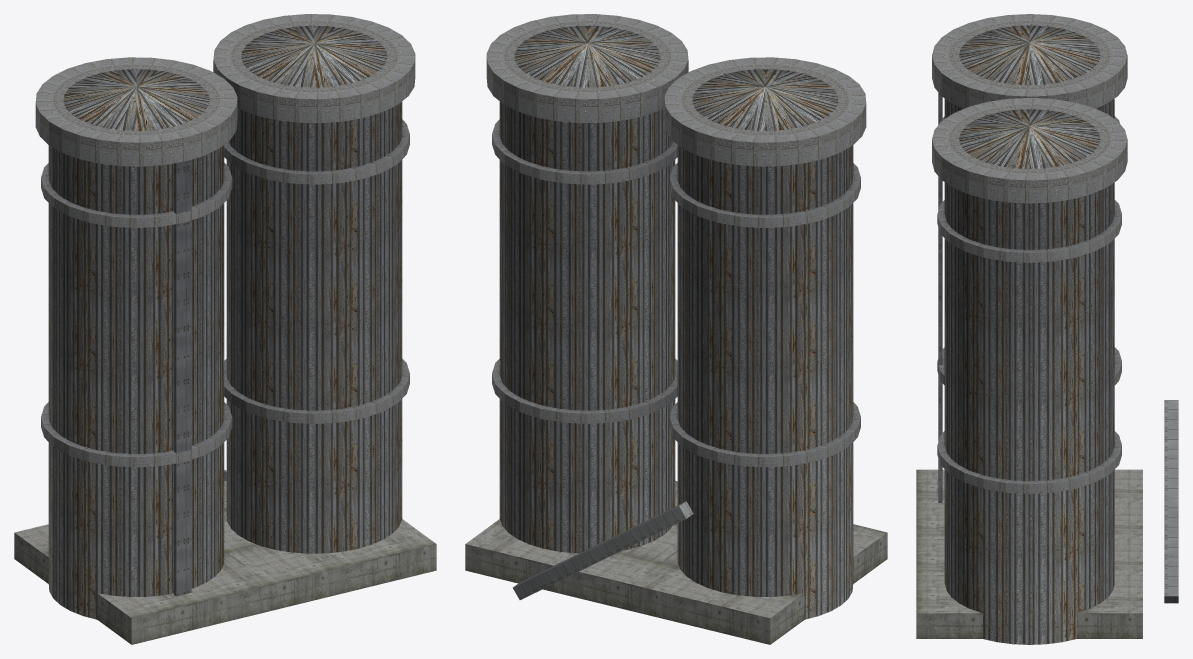
The model's file is grain-silo-twin_lod0.gltf.
3 renders of one model, left to right at view 1: azimuth 30°, elevation 25°; view 2: azimuth 150°, elevation 25°; view 3: azimuth 270°, elevation 25°, orthographic. The views are drawn at different scales.
Parts seen in each view (by area): view 1: grain-silo-twin_cyl1, grain-silo-twin_cyl0, grain-silo-twin__v4_cyl_crowns, grain-silo-twin_base, grain-silo-twin__ladder, grain-silo-twin__cap_b, grain-silo-twin__cap_a; view 2: grain-silo-twin_cyl0, grain-silo-twin_cyl1, grain-silo-twin__v4_cyl_crowns, grain-silo-twin_base, grain-silo-twin__cap_b, grain-silo-twin__cap_a, grain-silo-twin__auger; view 3: grain-silo-twin_cyl1, grain-silo-twin__v4_cyl_crowns, grain-silo-twin_base, grain-silo-twin__cap_b, grain-silo-twin__cap_a, grain-silo-twin__auger, grain-silo-twin__ladder, grain-silo-twin_cyl0.
Part boxes in pixels (x1,y1,x2,y2): grain-silo-twin_cyl1: (226,101,402,553); grain-silo-twin_cyl0: (48,145,224,619); grain-silo-twin__v4_cyl_crowns: (35,14,415,467); grain-silo-twin_base: (14,481,436,644); grain-silo-twin__ladder: (174,159,191,596); grain-silo-twin__cap_b: (241,25,387,87); grain-silo-twin__cap_a: (63,69,209,130); grain-silo-twin_cyl0: (677,145,853,619); grain-silo-twin_cyl1: (499,101,675,553); grain-silo-twin__v4_cyl_crowns: (486,14,866,467); grain-silo-twin_base: (465,481,887,644); grain-silo-twin__cap_b: (514,25,660,87); grain-silo-twin__cap_a: (692,69,838,130); grain-silo-twin__auger: (513,501,693,599); grain-silo-twin_cyl1: (944,182,1114,644); grain-silo-twin__v4_cyl_crowns: (932,14,1127,493); grain-silo-twin_base: (916,469,1142,638); grain-silo-twin__cap_b: (959,109,1100,168); grain-silo-twin__cap_a: (959,25,1100,85); grain-silo-twin__auger: (1164,400,1178,603); grain-silo-twin__ladder: (938,92,942,502); grain-silo-twin_cyl0: (944,98,1114,118).
Size of the model in its own units: 13.9 by 18.8 by 9.25.
